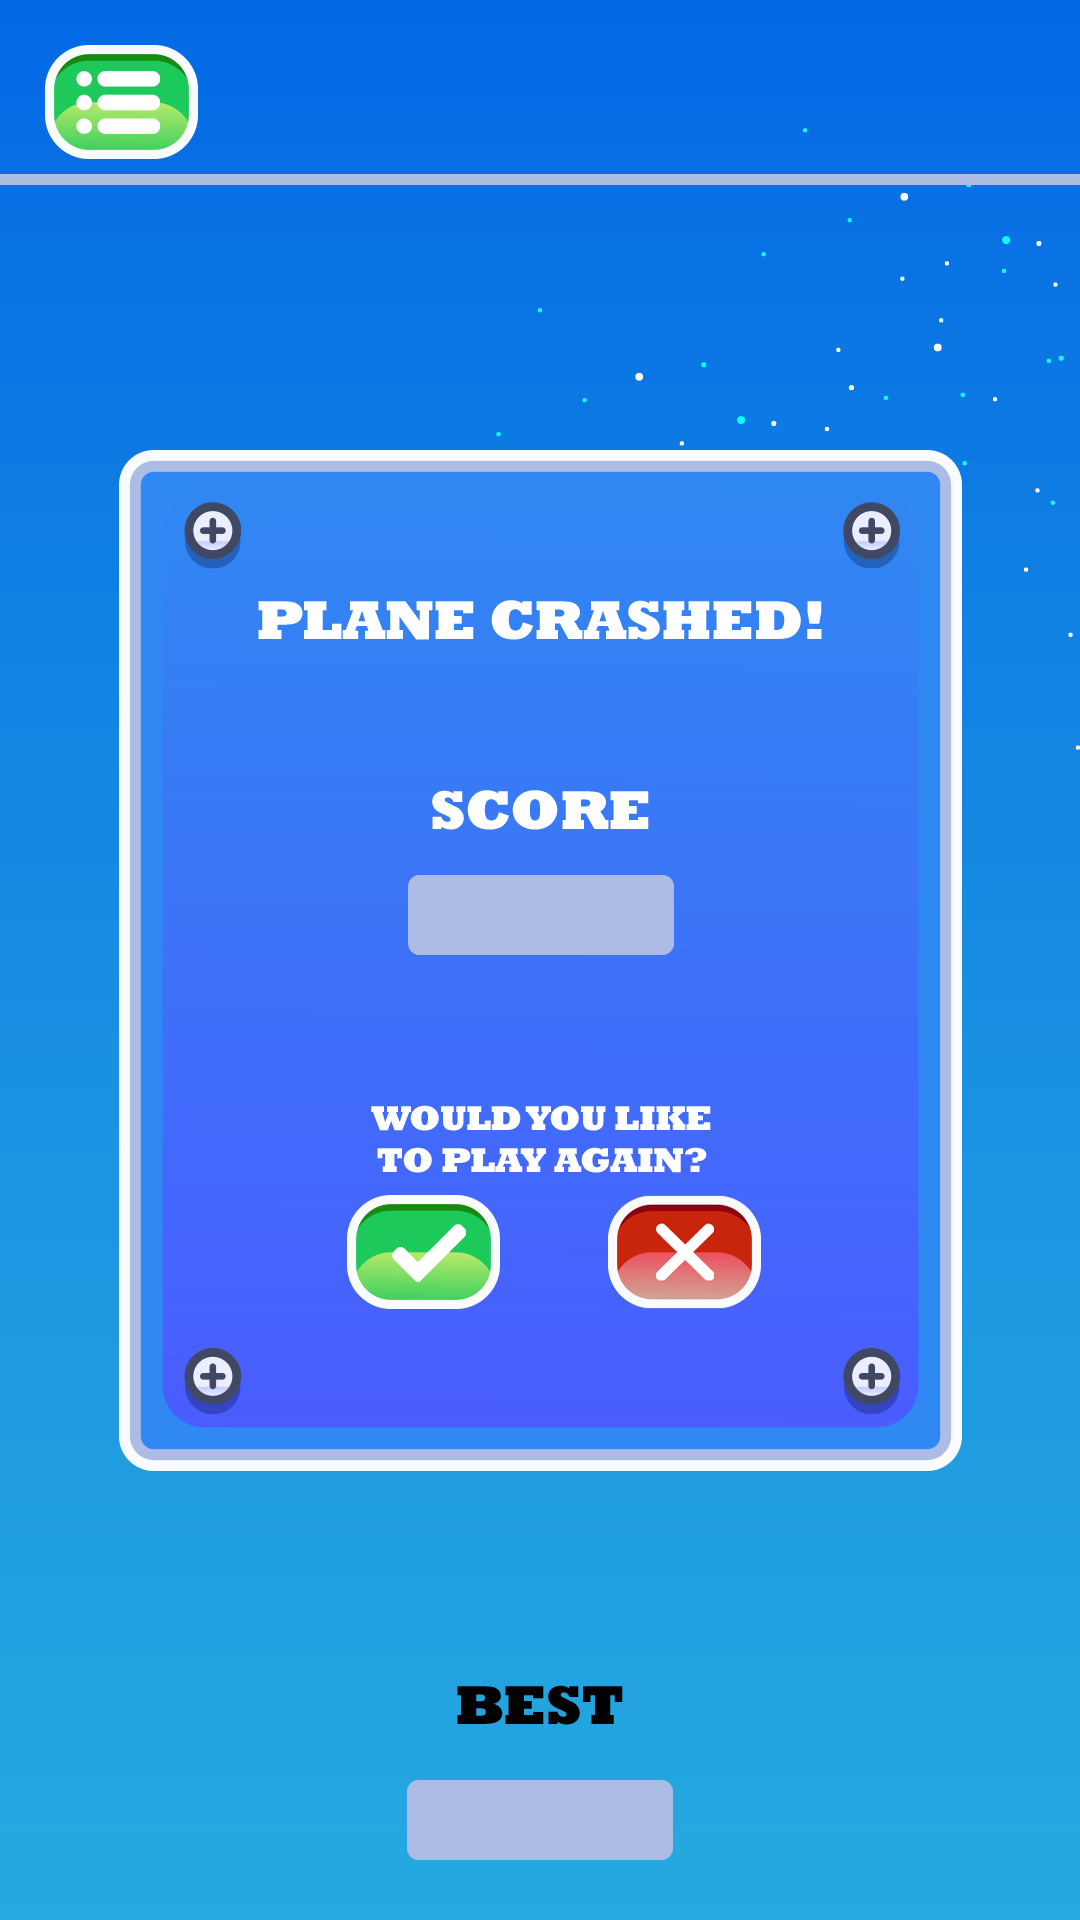

Icons on this 1080x1920 Android screen, each with its box as (x1, y1, x2, y2):
close: (608, 1196, 761, 1309)
menu: (45, 45, 198, 159)
